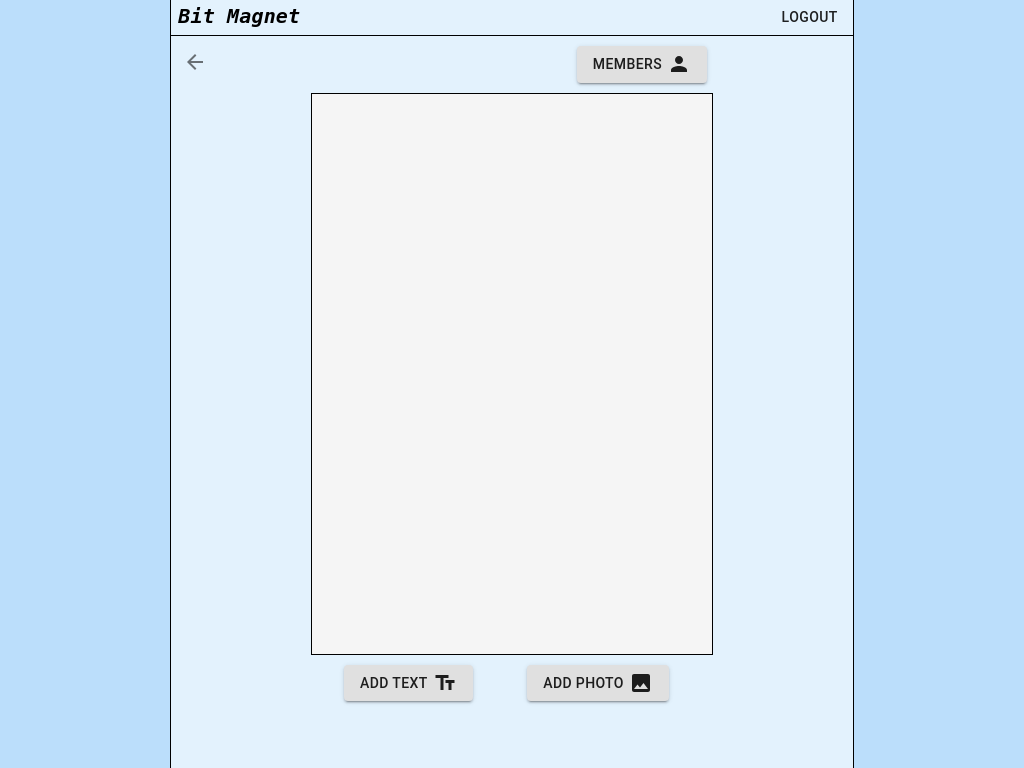
Test case: Will show button to add photo magnet, will open and close popup
Step 1. Click the button with test id "addPhotoMagnetBtn" → (598, 683), box left=527, top=664, right=669, bottom=701
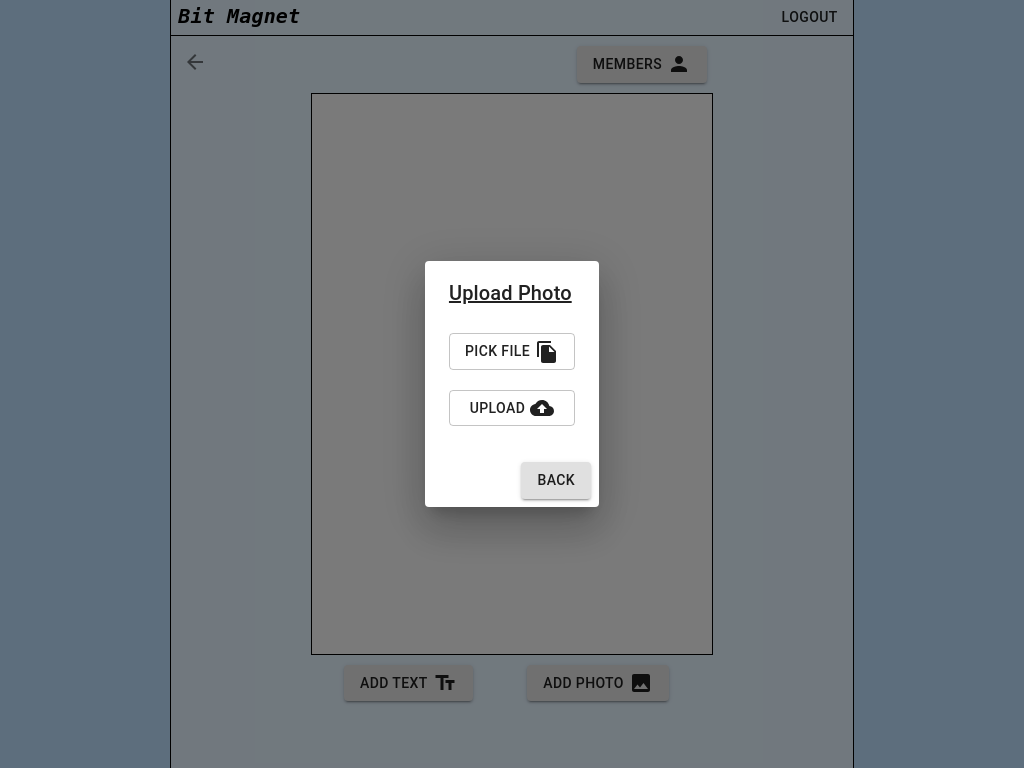
Result: the element with test id "createPhotoPopup" is shown at left=449, top=281, right=572, bottom=305
Result: the button with test id "closeCreatePhotoPopup" is shown
Step 2. Click the button with test id "closeCreatePhotoPopup" → (556, 481), box left=522, top=462, right=591, bottom=499
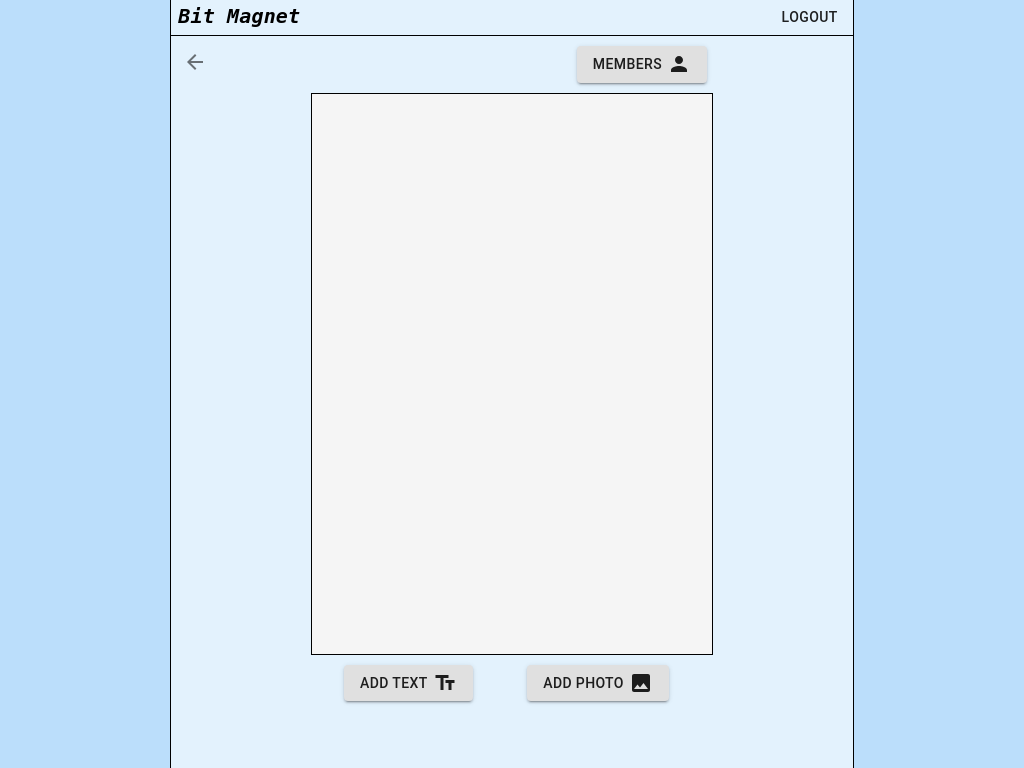
Result: the element with test id "createPhotoPopup" is gone
